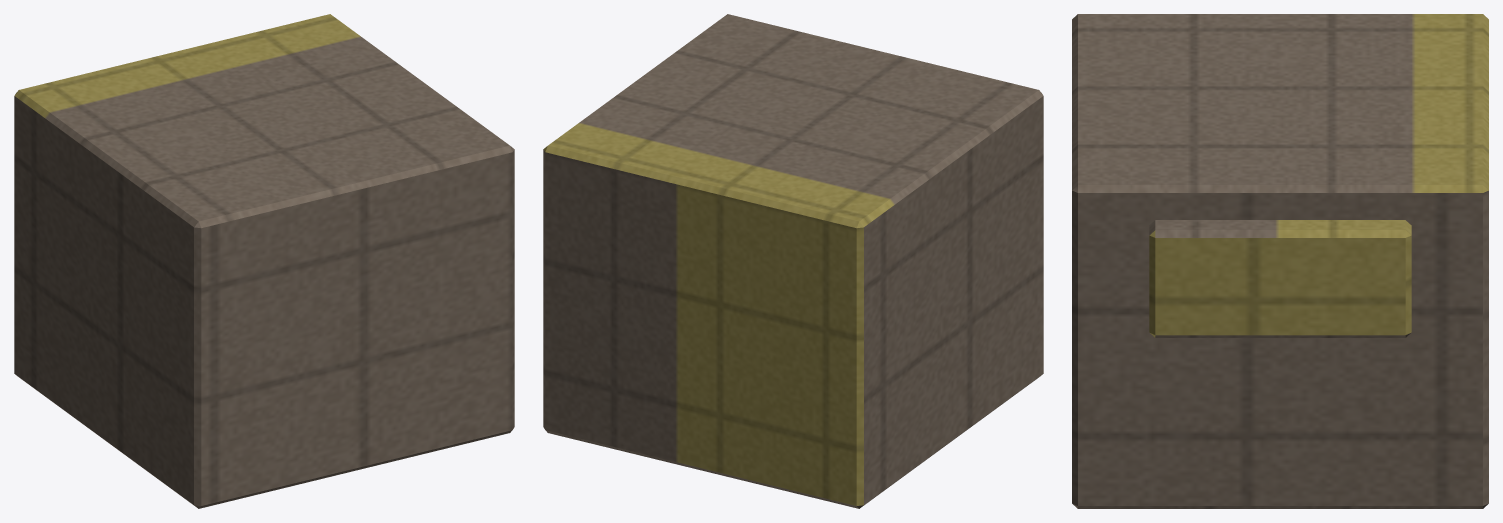
The model's file is ammo_module.glb.
3 renders of one model, left to right at view 1: azimuth 30°, elevation 25°; view 2: azimuth 150°, elevation 25°; view 3: azimuth 270°, elevation 25°, orthographic. The views are drawn at different scales.
Visible parts, largest first — view 1: ammo_module; view 2: ammo_module; view 3: ammo_module.
Boxes of the visible parts, left/top/right/bottom form: ammo_module: left=14, top=14, right=514, bottom=508; ammo_module: left=543, top=14, right=1043, bottom=508; ammo_module: left=1072, top=14, right=1488, bottom=508.
Size of the model in its own units: 0.75 by 0.6 by 0.7.
1 material, 1 textured.
